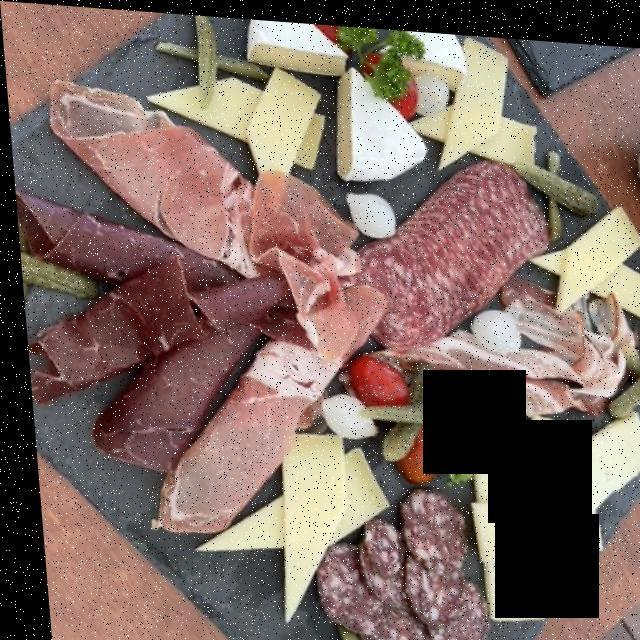cheese: (151, 17, 640, 627)
cucumber-pickled: (16, 16, 640, 640)
dried-meat: (15, 185, 273, 467)
ham: (29, 80, 383, 546)
salami: (364, 166, 535, 337), (311, 486, 477, 640)
tomato: (326, 29, 439, 477)
